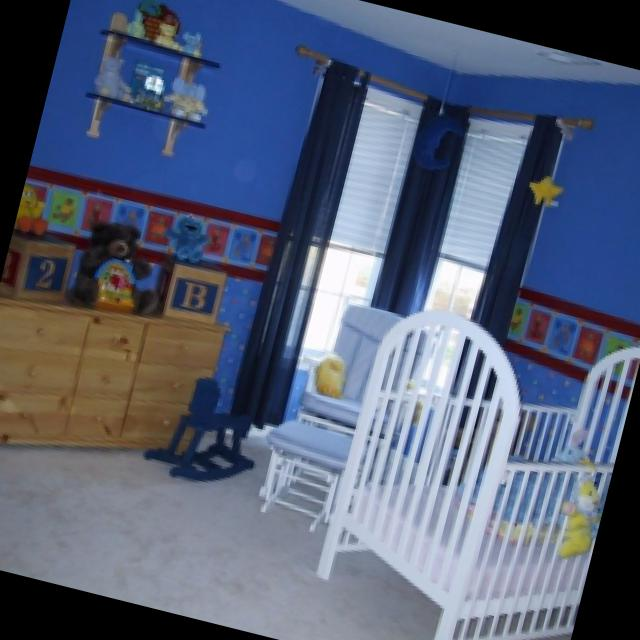2001: (414, 117, 529, 382), (299, 87, 413, 344)
air vent: (534, 49, 594, 62)
armchair crop: (254, 300, 398, 527), (301, 303, 431, 431)
box contants: (156, 251, 222, 324), (0, 228, 71, 295)
ceiling beam: (283, 0, 640, 79)
crib: (312, 307, 637, 640)
curtain crop: (228, 59, 367, 422), (469, 109, 563, 347), (368, 99, 465, 311)
dresser: (0, 281, 224, 454)
ottoman: (255, 416, 346, 516)
shelf crop: (84, 84, 202, 151), (100, 8, 212, 61)
shelves crop: (83, 10, 218, 154)
teddy bear: (68, 218, 154, 303), (164, 73, 203, 114), (94, 52, 129, 92)
toy crio: (137, 372, 253, 480), (556, 427, 599, 551), (163, 213, 204, 259), (130, 0, 174, 34), (95, 261, 127, 307), (309, 351, 339, 391), (16, 183, 45, 224), (132, 62, 159, 103)
